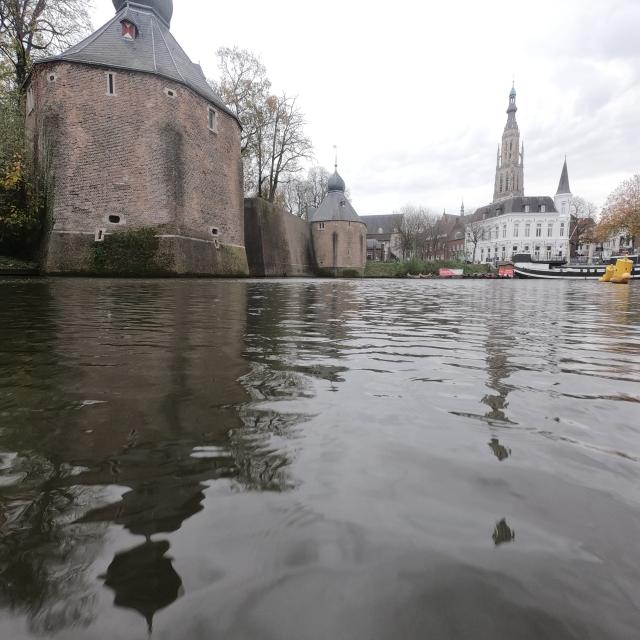boat: (514, 260, 607, 279)
grass: (364, 260, 408, 277)
sky: (171, 0, 640, 214)
tree: (0, 81, 47, 261)
wall: (24, 0, 366, 276)
water: (0, 277, 640, 638)
